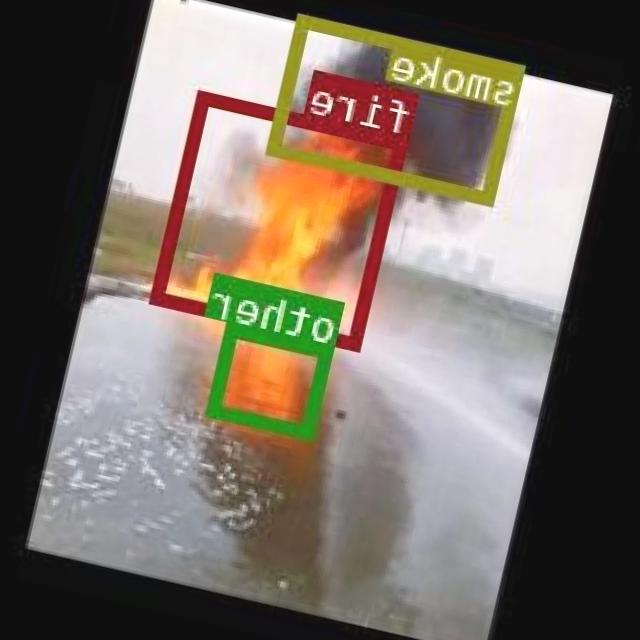fire: (152, 89, 410, 348)
smoke: (269, 13, 526, 204)
